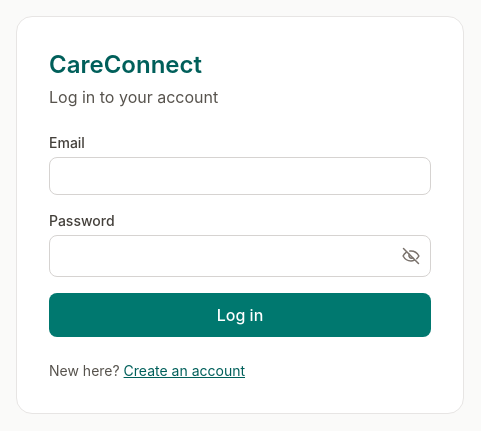
Test: password visibility toggle › login: starts hidden, shows the password when clicked, hides it again, and never clears what was typed
Type "Secret123" into the password field labelled "Password" at [240, 256], box [49, 235, 431, 277]
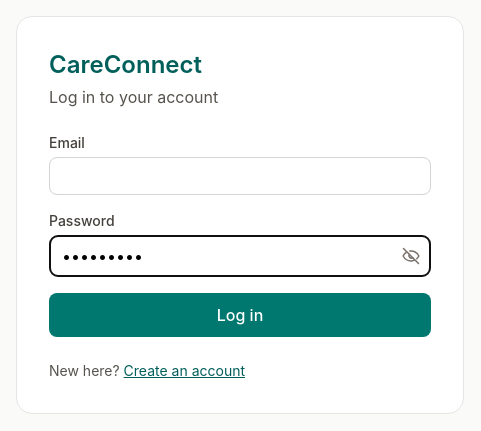
Click the button named "Show password" at [411, 256], box [391, 235, 431, 277]
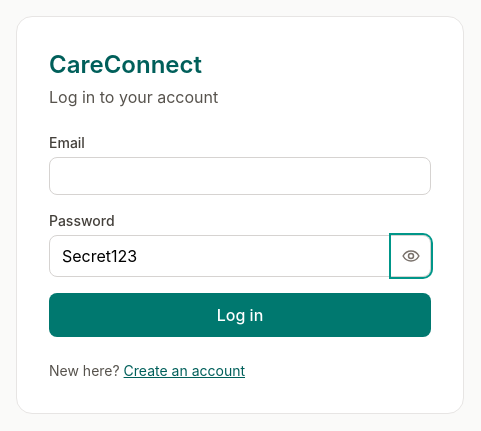
expect the field labelled "Password" shows its text: met, box [49, 235, 431, 277]
Click the button named "Hide password" at [411, 256], box [391, 235, 431, 277]
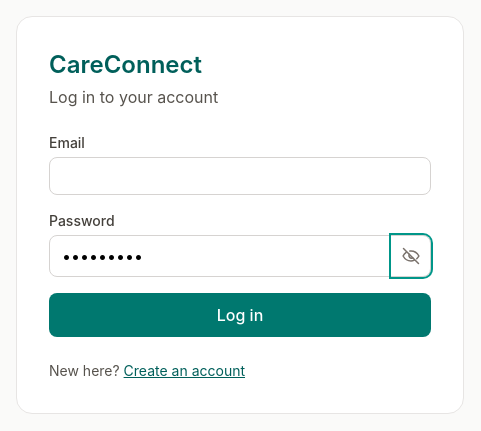
expect the password field labelled "Password" hides its text: met, box [49, 235, 431, 277]
